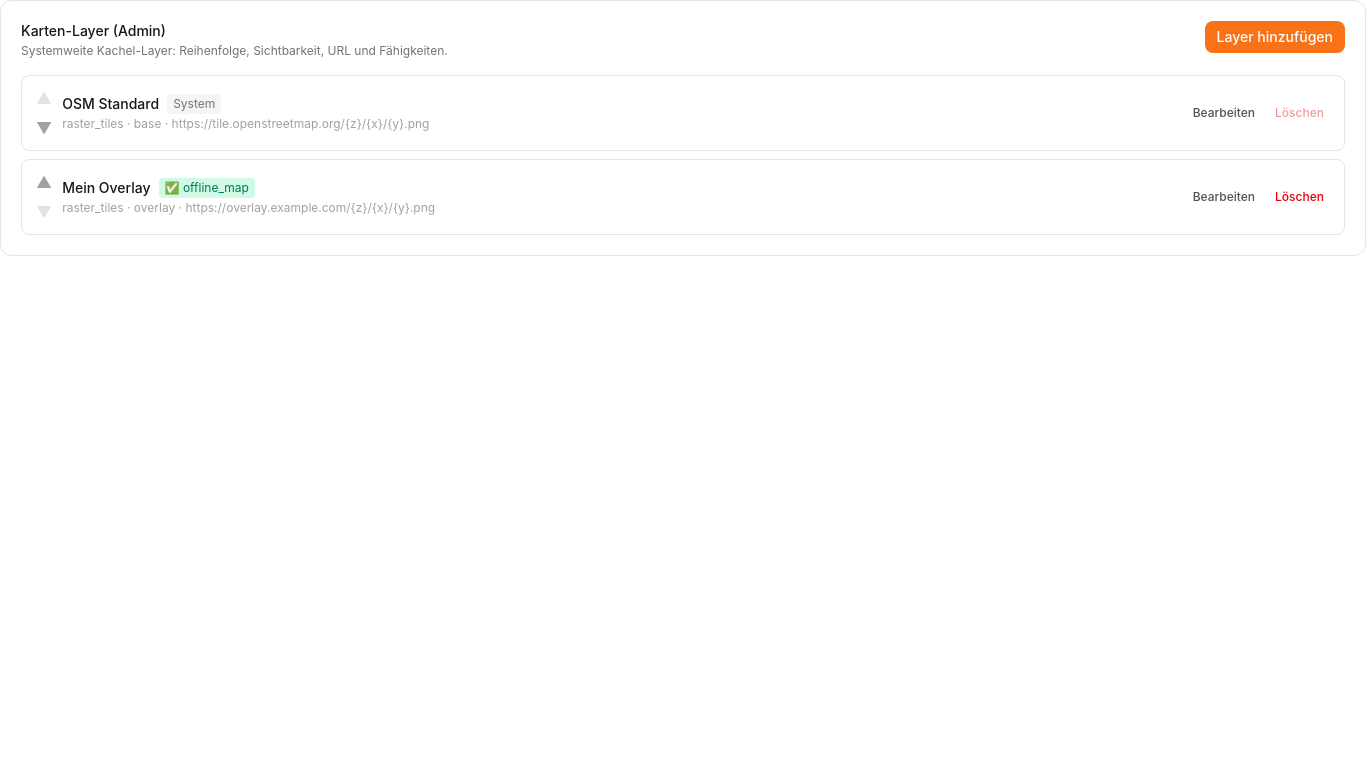
Test: MapLayersAdminSection › Capability field is a dropdown (not free text)
Expected: the text "Mein Overlay" is shown, [62, 178, 151, 198]
Step 1. Click the button "Bearbeiten" in the row of "Mein Overlay" → (1224, 197), box [1185, 185, 1263, 209]
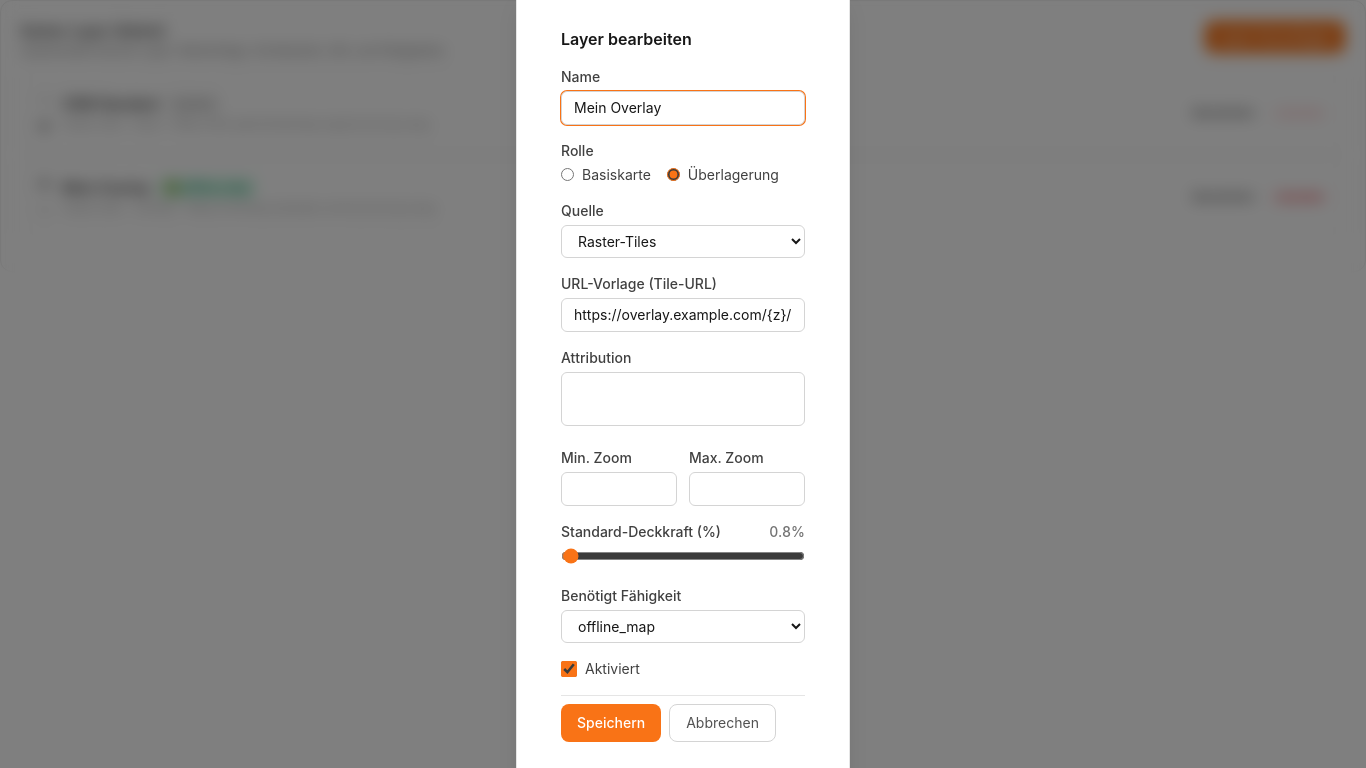
Expected: the heading "Layer bearbeiten" is shown, [561, 28, 692, 48]
